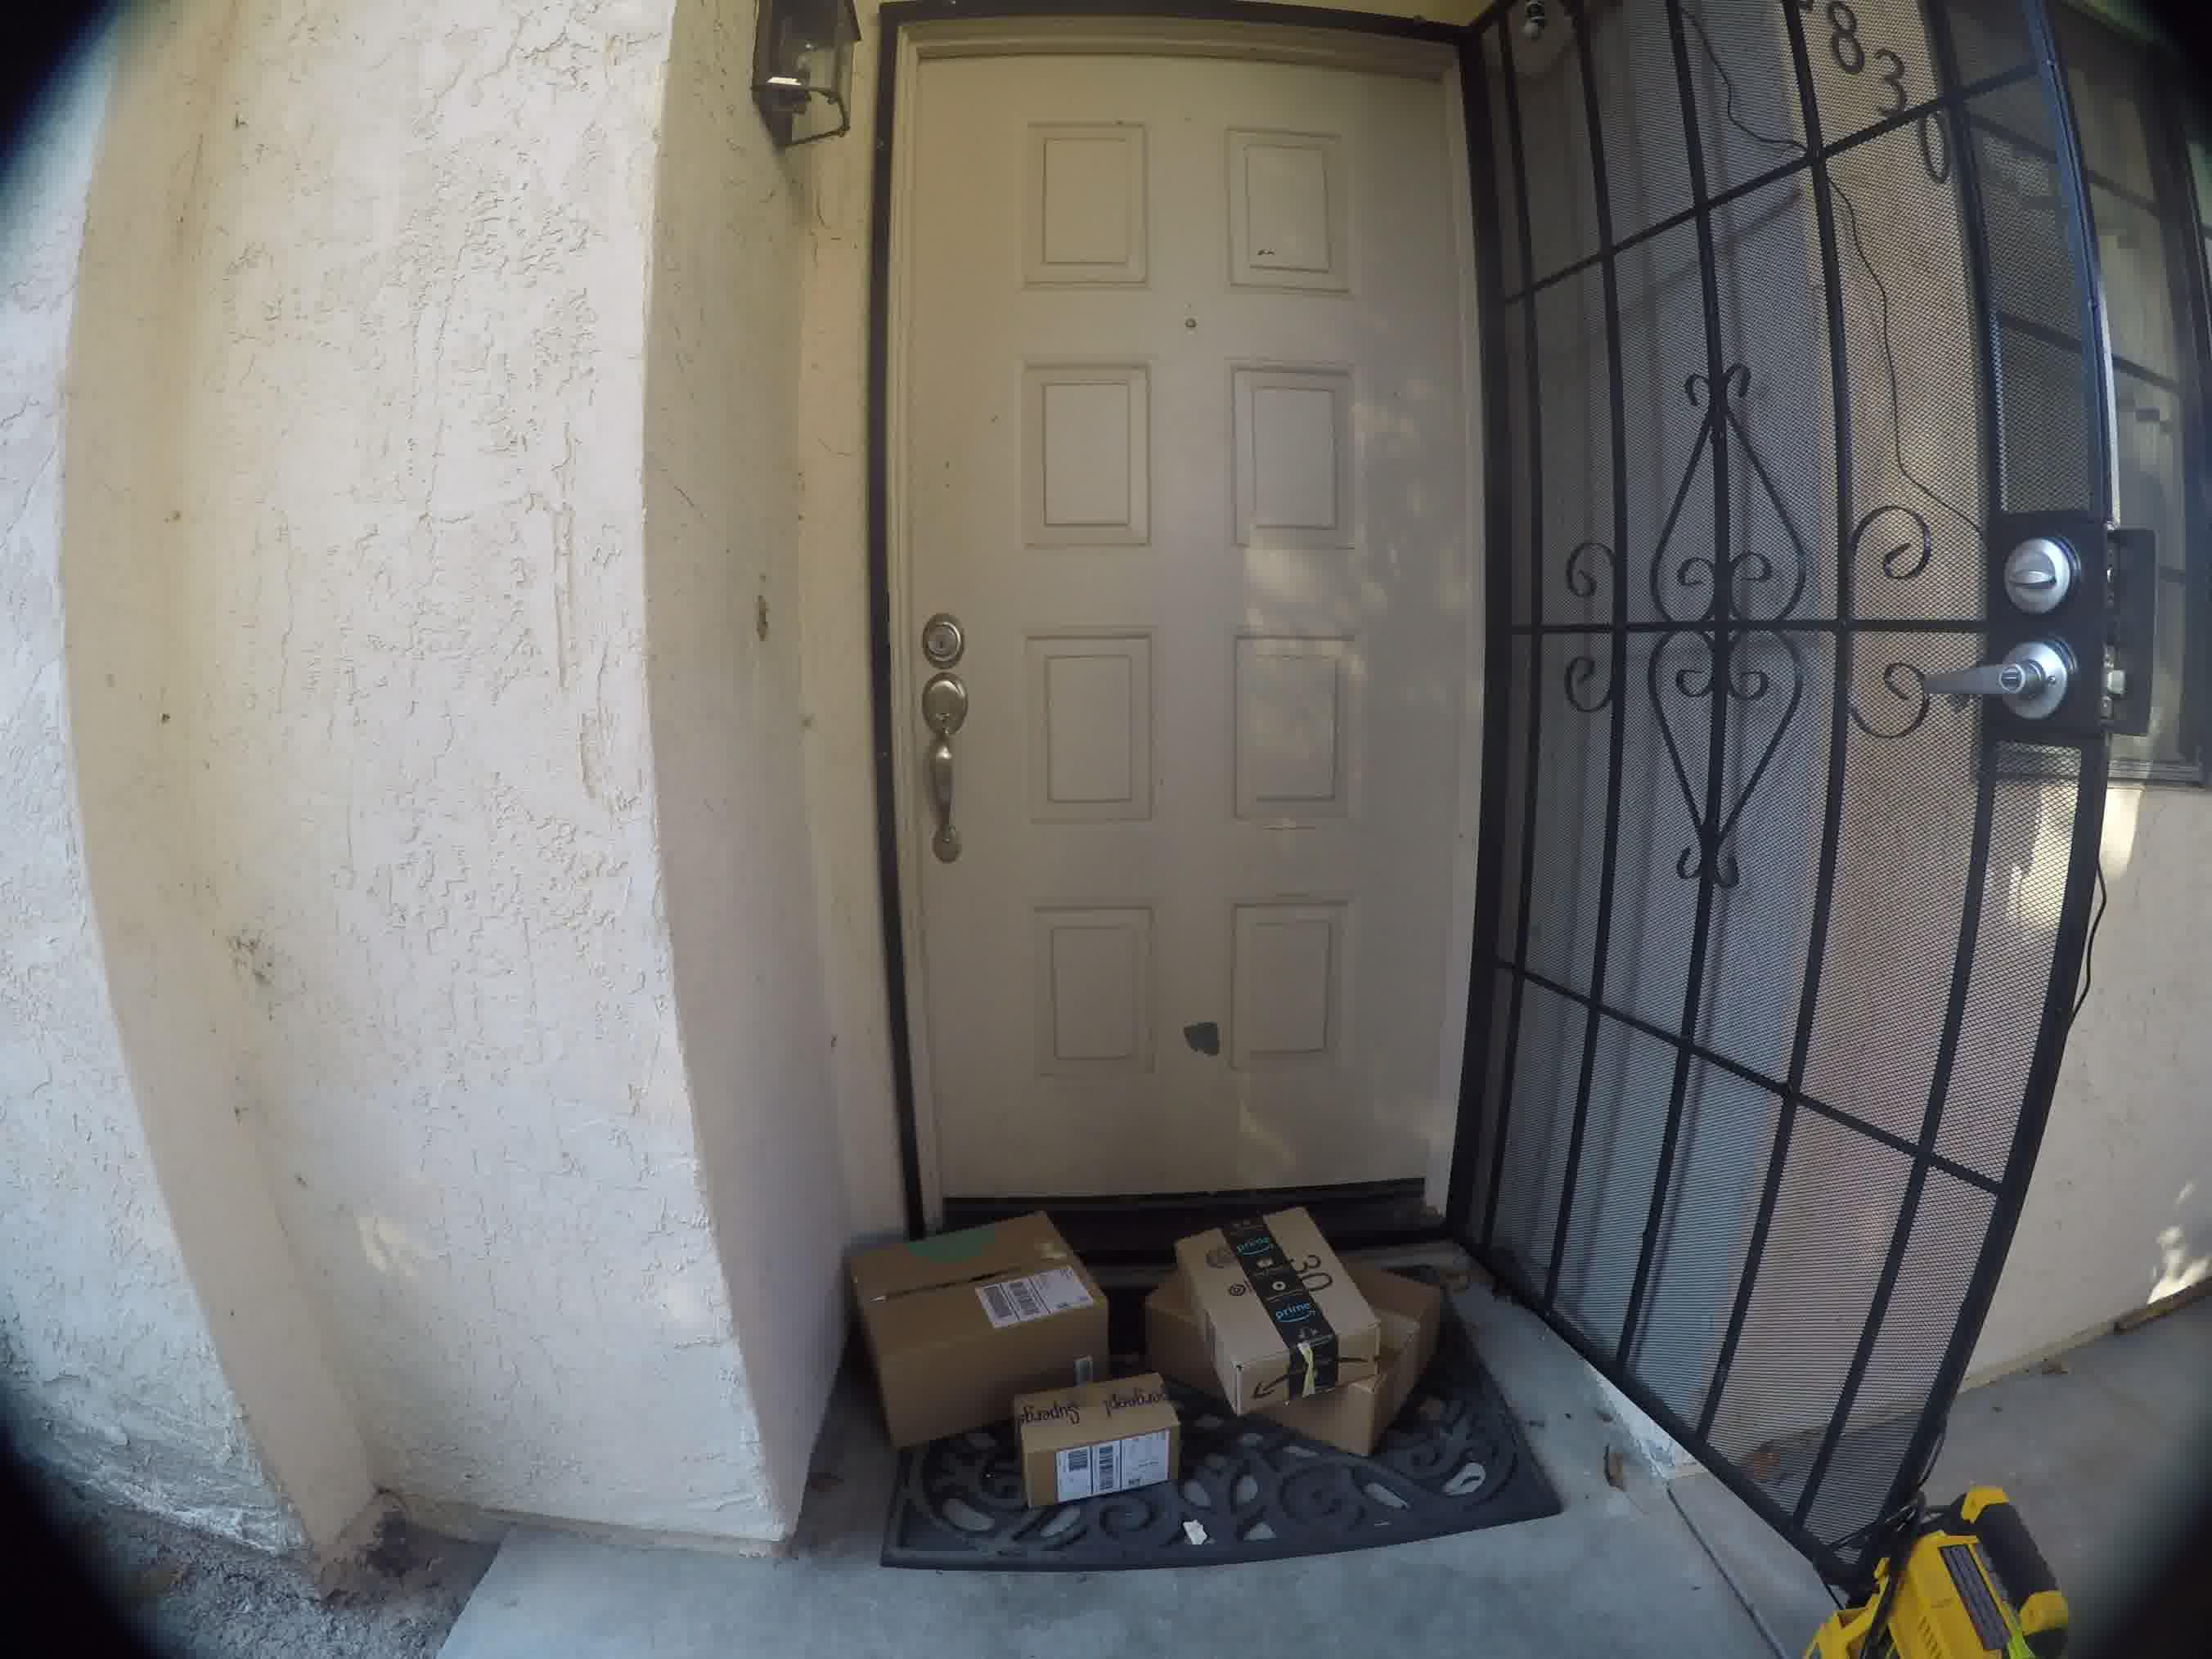box: (843, 1192, 1090, 1366), (1151, 1211, 1385, 1391), (996, 1391, 1190, 1509)
